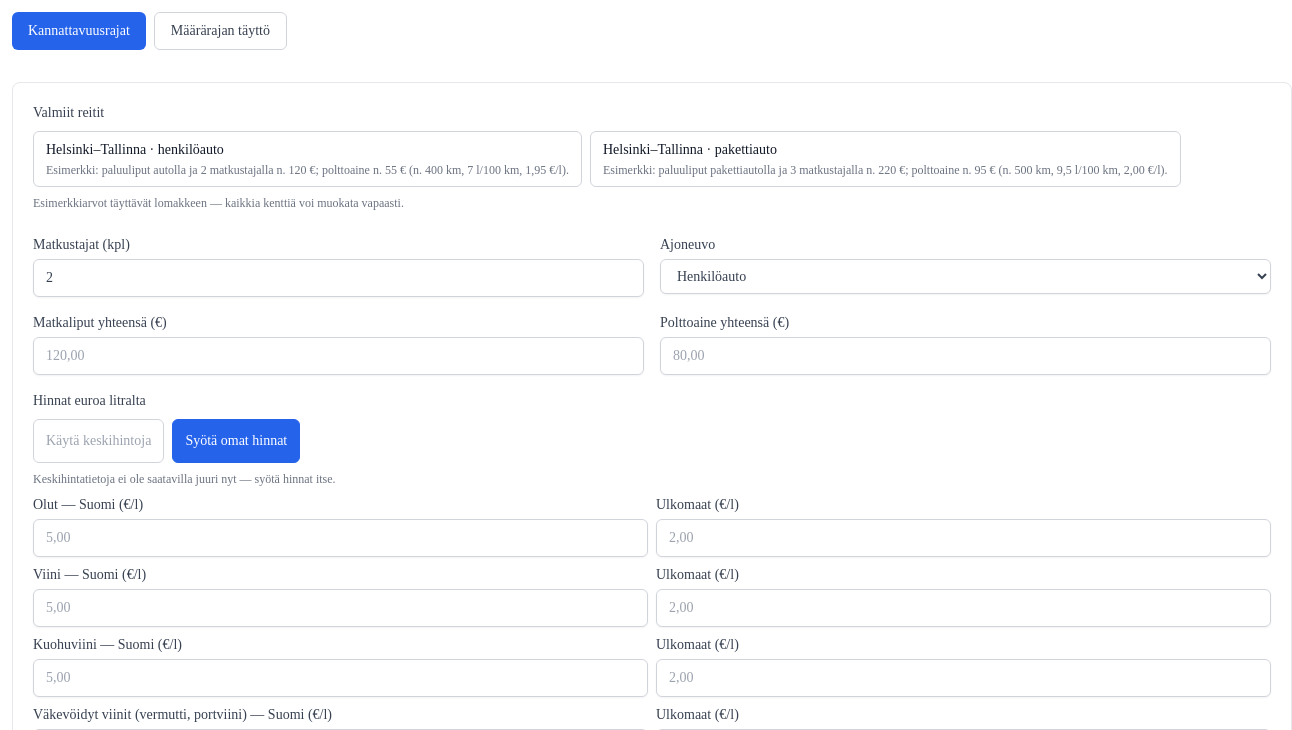
Test: TripView route presets (task 4.3) › applying a preset fills the expected editable inputs
Click the button that starts with "Helsinki–Tallinna · henkilöauto" at (135, 150), box [33, 131, 582, 187]
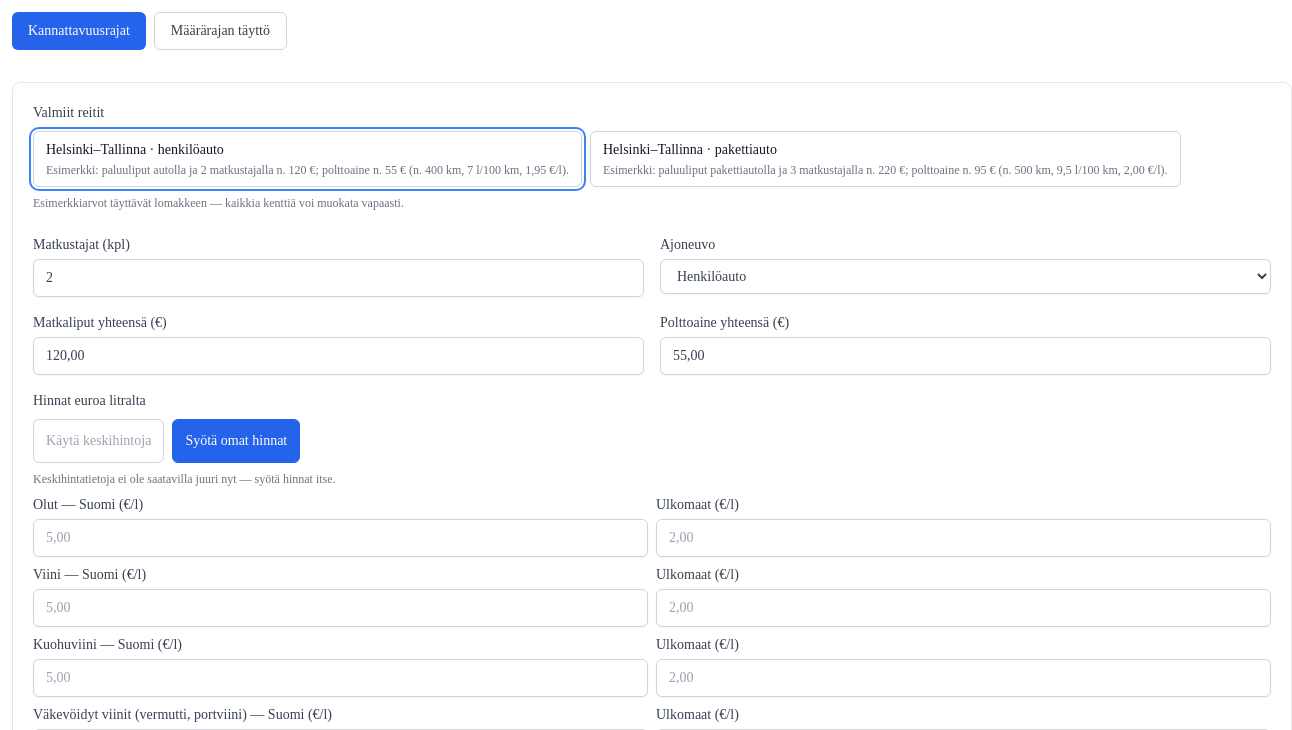
Expected: the number field labelled "Matkustajat (kpl)" holds "2", [33, 259, 644, 297]
Expected: the field labelled "Matkaliput yhteensä (€)" holds "120,00", [33, 337, 644, 375]
Expected: the field labelled "Polttoaine yhteensä (€)" holds "55,00", [660, 337, 1271, 375]
